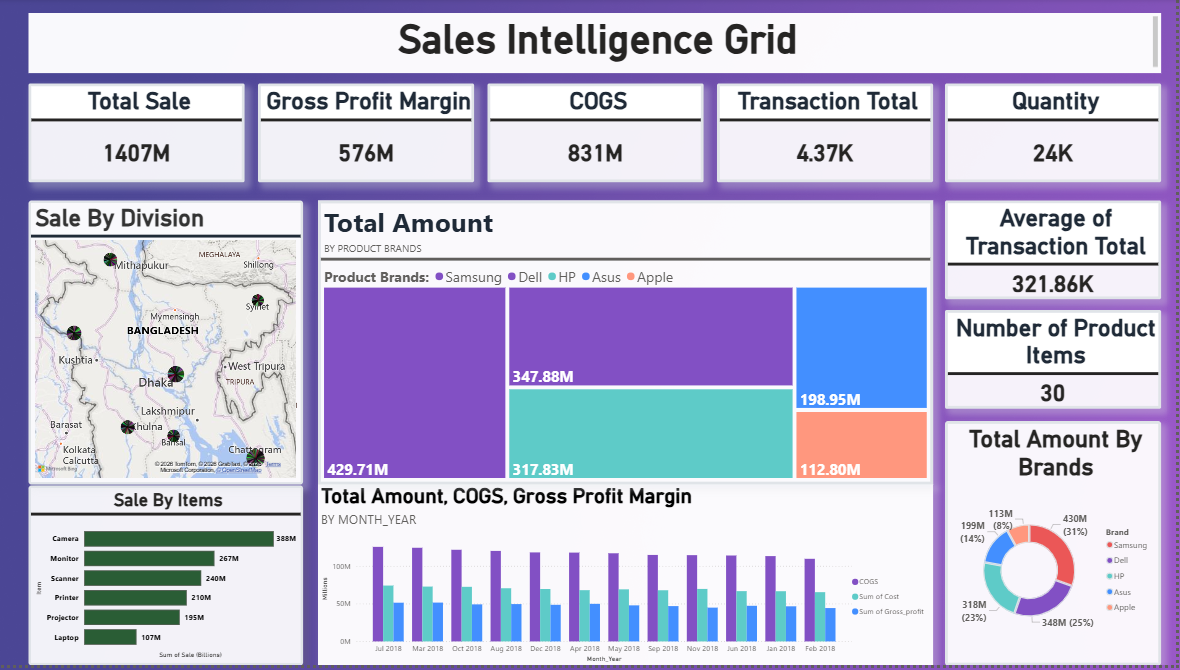

The page's visual inventory and layout, read from the dashboard file:
{"tool":"powerbi","page":{"name":"Dashboard","canvas":[1920,1080],"ordinal":0},"visuals":[{"type":"card","title":"Total Sale","fields":{"Values":["Sum(fSales.Sale)"]},"box":[60.7,138.4,349.8,160.3],"z":0},{"type":"card","title":"Gross Profit Margin","fields":{"Values":["Sum(fSales.Gross_profit)"]},"box":[432.3,138.4,349.8,160.3],"z":1000},{"type":"card","title":"COGS","fields":{"Values":["Sum(fSales.Cost)"]},"box":[803.9,138.4,349.8,160.3],"z":2000},{"type":"card","title":"Transaction Total","fields":{"Values":["Count(fSales.TR ID)"]},"box":[1175.6,138.4,349.8,160.3],"z":3000},{"type":"card","title":"Quantity","fields":{"Values":["Sum(fSales.Quantity)"]},"box":[1544.7,138.4,349.8,160.3],"z":4000},{"type":"card","title":"Average of Transaction Total","fields":{"Values":["Avg(fSales.Sale)"]},"box":[1544.7,327.9,349.8,160.3],"z":5000},{"type":"donutChart","title":"Total Amount By Brands","fields":{"Y":["Sum(fSales.Sale)"],"Category":["dProducts.Brand"]},"box":[1544.7,684.9,349.8,395.9],"z":6000},{"type":"card","title":"Number of Product Items","fields":{"Values":["Count(dProducts.Item Code)"]},"box":[1544.7,505.2,349.8,160.3],"z":7000},{"type":"clusteredColumnChart","title":"Total Amount, COGS, Gross Profit Margin","fields":{"Category":["fSales.Month_Year"],"Y":["Sum(fSales.Sale)","Sum(fSales.Cost)","Sum(fSales.Gross_profit)"]},"box":[529.5,786.9,995.8,293.9],"z":8000},{"type":"treemap","title":"Total Amount","fields":{"Group":["dProducts.Brand"],"Values":["Sum(fSales.Sale)"]},"box":[529.5,327.9,995.8,460],"z":9000},{"type":"clusteredBarChart","title":"Sale By Items","fields":{"Y":["Sum(fSales.Sale)"],"Category":["dProducts.Item"]},"box":[60.7,789.4,444.5,291.5],"z":10000},{"type":"map","title":"Sale By Division ","fields":{"Category":["dShops.Division"],"Series":["fSales.Sale"],"Size":["Sum(fSales.Sale)"]},"box":[60.7,327.9,444.5,460],"z":11000},{"type":"textbox","box":[60.7,24.3,1833.8,97.2],"z":13000}]}

Visuals, with their boxes in screenshot pixels (x1, y1, x2, y2), scaled from the page's 1920x1080 canvas onto the 1180x670 screenshot:
"Total Sale" card: {"x1": 37, "y1": 86, "x2": 252, "y2": 185}
"Gross Profit Margin" card: {"x1": 266, "y1": 86, "x2": 481, "y2": 185}
"COGS" card: {"x1": 494, "y1": 86, "x2": 709, "y2": 185}
"Transaction Total" card: {"x1": 723, "y1": 86, "x2": 937, "y2": 185}
"Quantity" card: {"x1": 949, "y1": 86, "x2": 1164, "y2": 185}
"Average of Transaction Total" card: {"x1": 949, "y1": 203, "x2": 1164, "y2": 303}
"Total Amount By Brands" donutChart: {"x1": 949, "y1": 425, "x2": 1164, "y2": 669}
"Number of Product Items" card: {"x1": 949, "y1": 313, "x2": 1164, "y2": 413}
"Total Amount, COGS, Gross Profit Margin" clusteredColumnChart: {"x1": 325, "y1": 488, "x2": 937, "y2": 669}
"Total Amount" treemap: {"x1": 325, "y1": 203, "x2": 937, "y2": 489}
"Sale By Items" clusteredBarChart: {"x1": 37, "y1": 490, "x2": 310, "y2": 669}
"Sale By Division " map: {"x1": 37, "y1": 203, "x2": 310, "y2": 489}
textbox: {"x1": 37, "y1": 15, "x2": 1164, "y2": 75}
